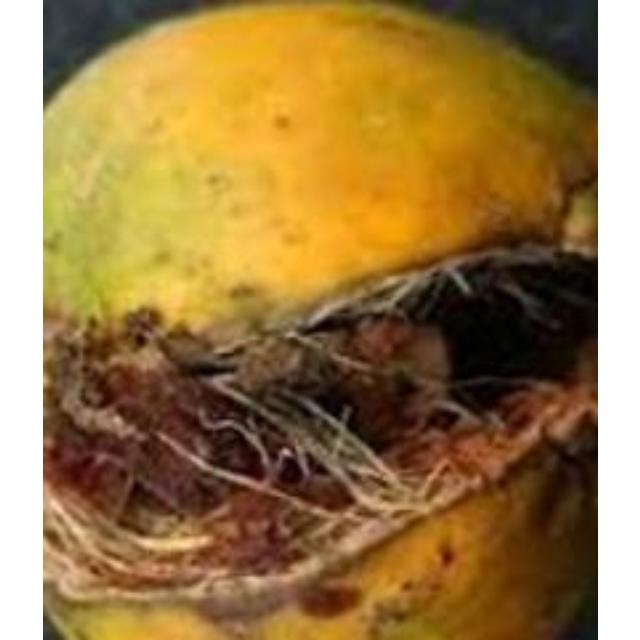damaged: (42, 3, 594, 637)
